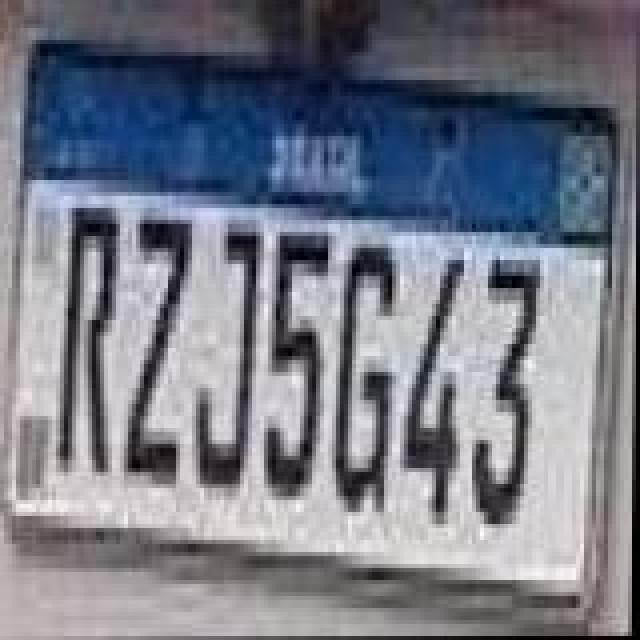3: (470, 254, 546, 534)
4: (398, 244, 474, 536)
5: (262, 220, 338, 496)
G: (338, 244, 406, 520)
J: (198, 226, 274, 490)
R: (52, 200, 124, 480)
Z: (126, 212, 202, 492)
